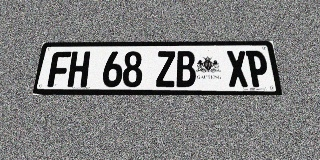6: (102, 51, 124, 87)
8: (122, 51, 143, 87)
B: (176, 51, 196, 87)
F: (47, 52, 71, 87)
H: (67, 51, 90, 87)
P: (245, 51, 270, 87)
X: (226, 51, 249, 87)
Z: (156, 51, 176, 87)
